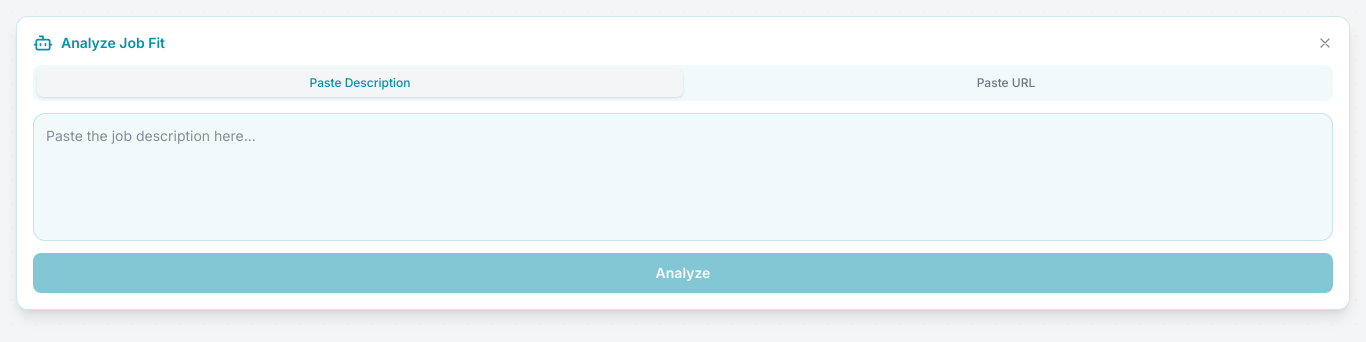
Test: JobFitAnalyzer › toggles to URL input
Click the button "Paste URL" at (1006, 83), box [683,69,1329,97]
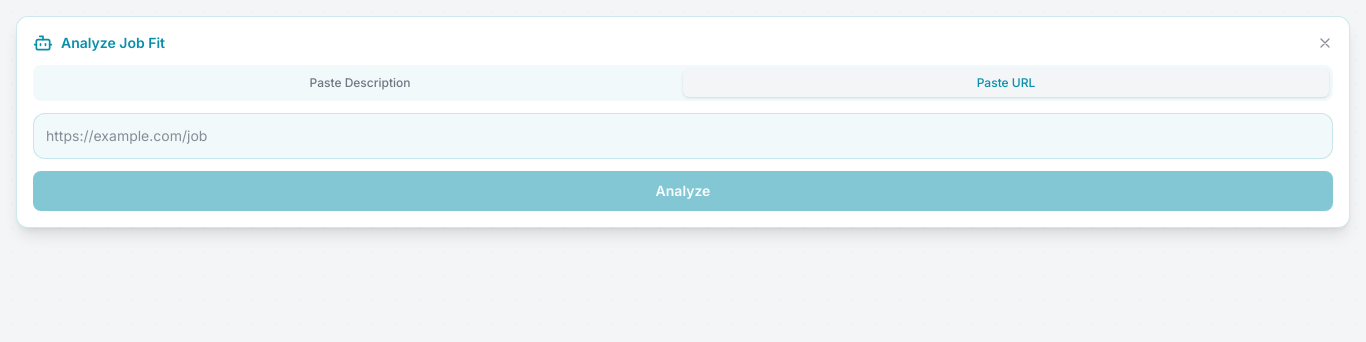
Expected: the field with placeholder "https://example.com/job" is shown, [33,113,1333,159]
